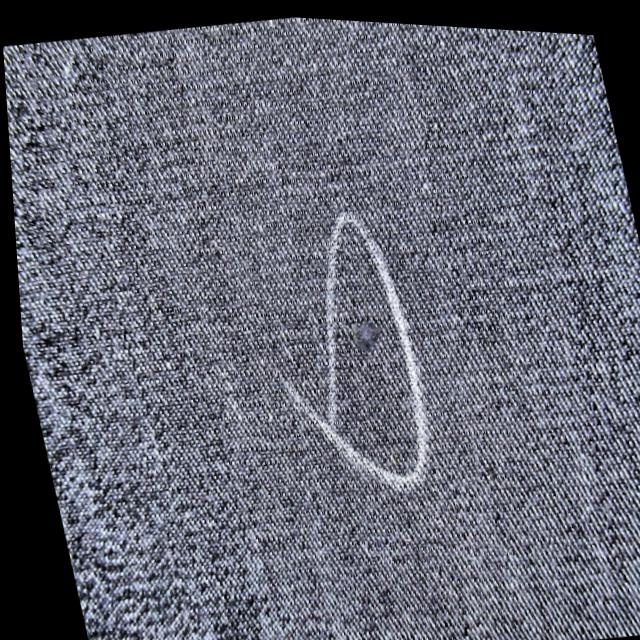Hole: (333, 297, 399, 380)
